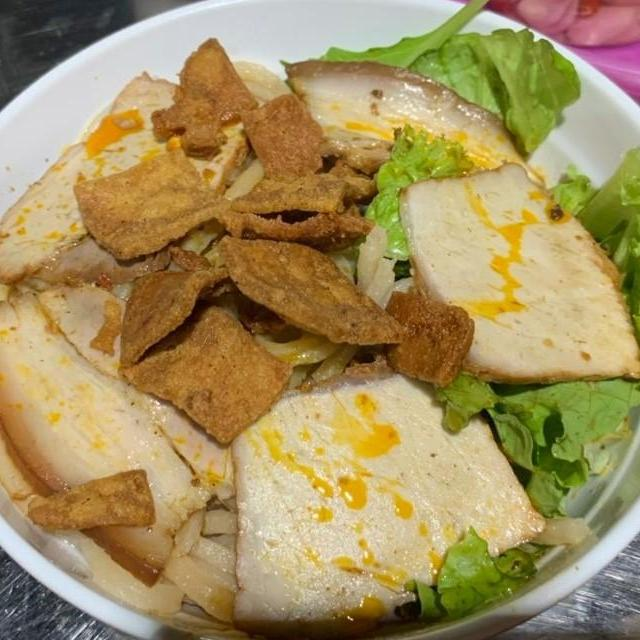banh da: (116, 302, 297, 450), (212, 232, 416, 351), (68, 142, 236, 266), (143, 35, 263, 162), (112, 256, 234, 376), (23, 464, 163, 544), (376, 288, 479, 390), (224, 152, 382, 218), (234, 88, 337, 186)
mi: (146, 478, 250, 630), (322, 220, 422, 316), (243, 322, 366, 396)
mi quang: (0, 23, 640, 640)
thit heo: (227, 341, 550, 640), (0, 276, 241, 591), (0, 66, 260, 288), (391, 158, 640, 388), (281, 54, 551, 210)
